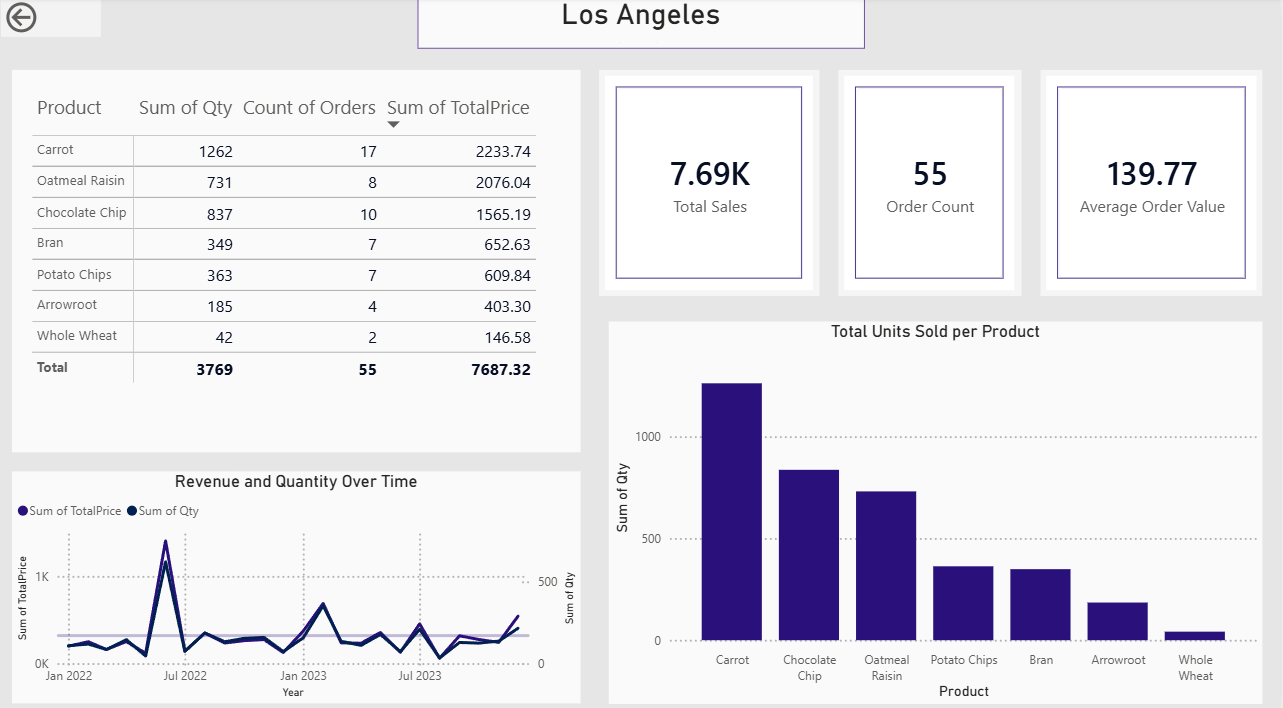

The dashboard page shown, as its layout file describes it:
{"tool":"powerbi","page":{"name":"City Details","canvas":[1280,720],"ordinal":1},"visuals":[{"type":"pivotTable","fields":{"Rows":["FoodSales.Product"],"Values":["Sum(FoodSales.Qty)","Count(FoodSales.ID)","Sum(FoodSales.TotalPrice)"]},"box":[11.2,72.6,568.4,382.7],"z":1000},{"type":"clusteredColumnChart","title":"Total Units Sold per Product","fields":{"Category":["FoodSales.Product"],"Y":["Sum(FoodSales.Qty)"]},"box":[607.5,324,653.6,382.7],"z":2000},{"type":"cardVisual","fields":{"Data":["FoodSales.Number of Orders"]},"box":[837.5,72.6,183,226.3],"z":3000},{"type":"cardVisual","fields":{"Data":["FoodSales.Total Sales"]},"box":[598.2,72.6,220.7,226.3],"z":4000},{"type":"cardVisual","fields":{"Data":["FoodSales.Average Order Value"]},"box":[1039.1,72.6,222.1,226.3],"z":5000},{"type":"lineChart","title":"Revenue and Quantity Over Time","fields":{"Y":["Sum(FoodSales.TotalPrice)"],"Category":["FoodSales.Date.Variation.Date Hierarchy.Year","FoodSales.Date.Variation.Date Hierarchy.Month"],"Y2":["Sum(FoodSales.Qty)"]},"box":[11.2,474.8,568.4,231.8],"z":6000},{"type":"actionButton","box":[0,0,100,40],"z":7000},{"type":"card","fields":{"Values":["Min(FoodSales.City)"]},"box":[416.2,0,446.9,51.7],"z":8000}]}

Visuals, with their boxes in screenshot pixels (x1, y1, x2, y2), scaled from the page's 1280x720 canvas onto the 1283x708 screenshot:
pivotTable - FoodSales.Product x Sum(FoodSales.Qty): 11,71,581,448
"Total Units Sold per Product" clusteredColumnChart: 609,319,1264,695
cardVisual - FoodSales.Number of Orders: 839,71,1023,294
cardVisual - FoodSales.Total Sales: 600,71,821,294
cardVisual - FoodSales.Average Order Value: 1042,71,1264,294
"Revenue and Quantity Over Time" lineChart: 11,467,581,695
actionButton: 0,0,100,39
card - Min(FoodSales.City): 417,0,865,51
